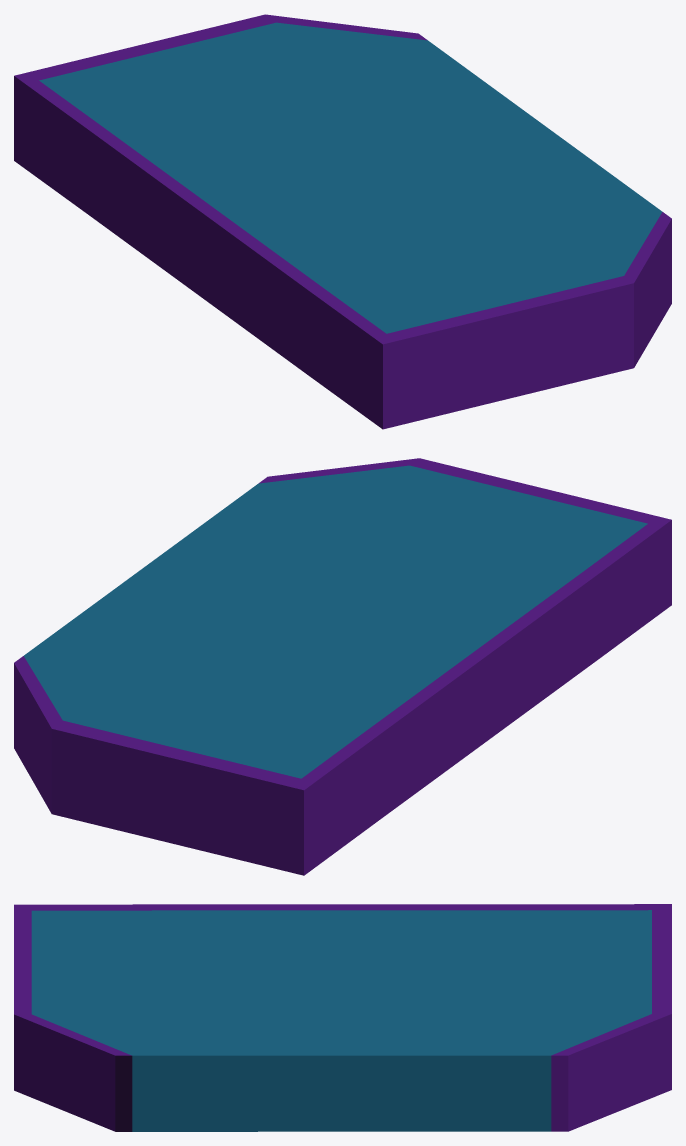
File: plataforma_meta_id_mesh.fbx
3 renders of one model, top to bottom at view 1: azimuth 30°, elevation 25°; view 2: azimuth 150°, elevation 25°; view 3: azimuth 270°, elevation 25°, orthographic. The views are drawn at different scales.
Parts seen in each view (by area): view 1: plataforma2; view 2: plataforma2; view 3: plataforma2.
Boxes of the visible parts, left/top/right/bottom form: plataforma2: left=14, top=14, right=671, bottom=429; plataforma2: left=14, top=458, right=671, bottom=875; plataforma2: left=14, top=904, right=671, bottom=1131.
Size of the model in its own units: 9.17 by 2.15 by 16.82.
